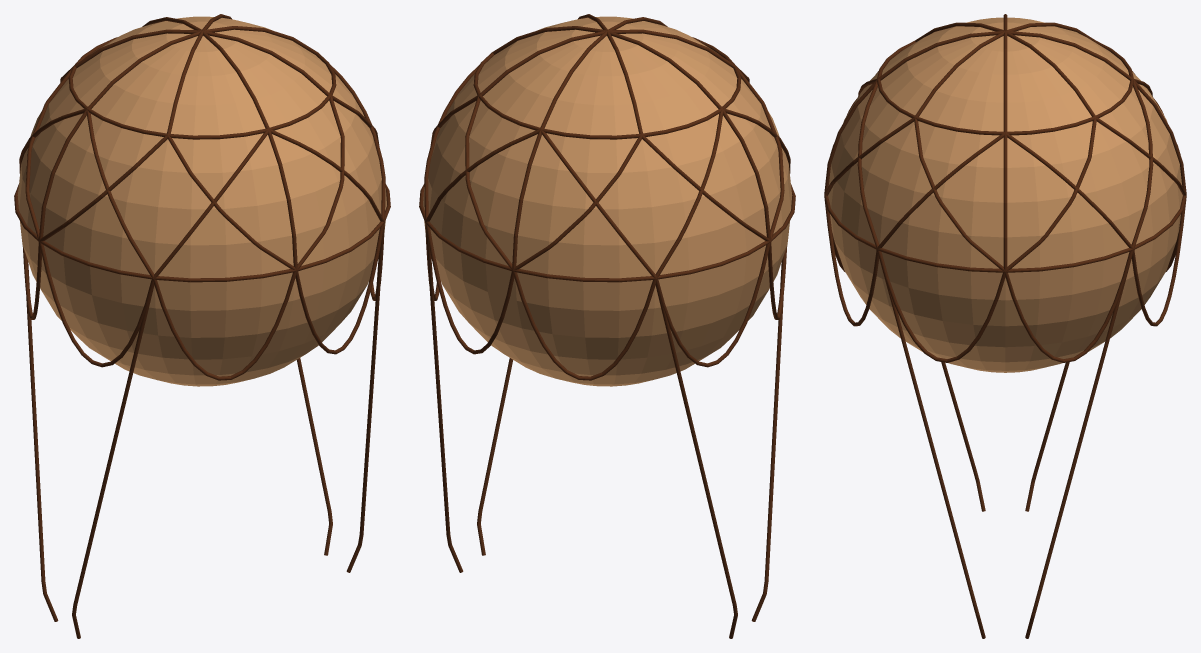
File: D9_D8_Vessel_V1.1.fbx
The picture shows the model from 3 angles, left to right: view 1: azimuth 30°, elevation 25°; view 2: azimuth 150°, elevation 25°; view 3: azimuth 270°, elevation 25°; orthographic projection. The views are drawn at different scales.
Visible parts, largest first — view 1: Sphere, Sphere.001; view 2: Sphere, Sphere.001; view 3: Sphere, Sphere.001.
Boxes of the visible parts, box(x1,y1,x2,y2) form: Sphere: box(17, 16, 386, 386); Sphere.001: box(14, 14, 390, 638); Sphere: box(423, 16, 792, 386); Sphere.001: box(419, 14, 795, 638); Sphere: box(828, 17, 1182, 372); Sphere.001: box(824, 14, 1186, 638).
Size of the model in its own units: 2426 by 4017 by 2426.
